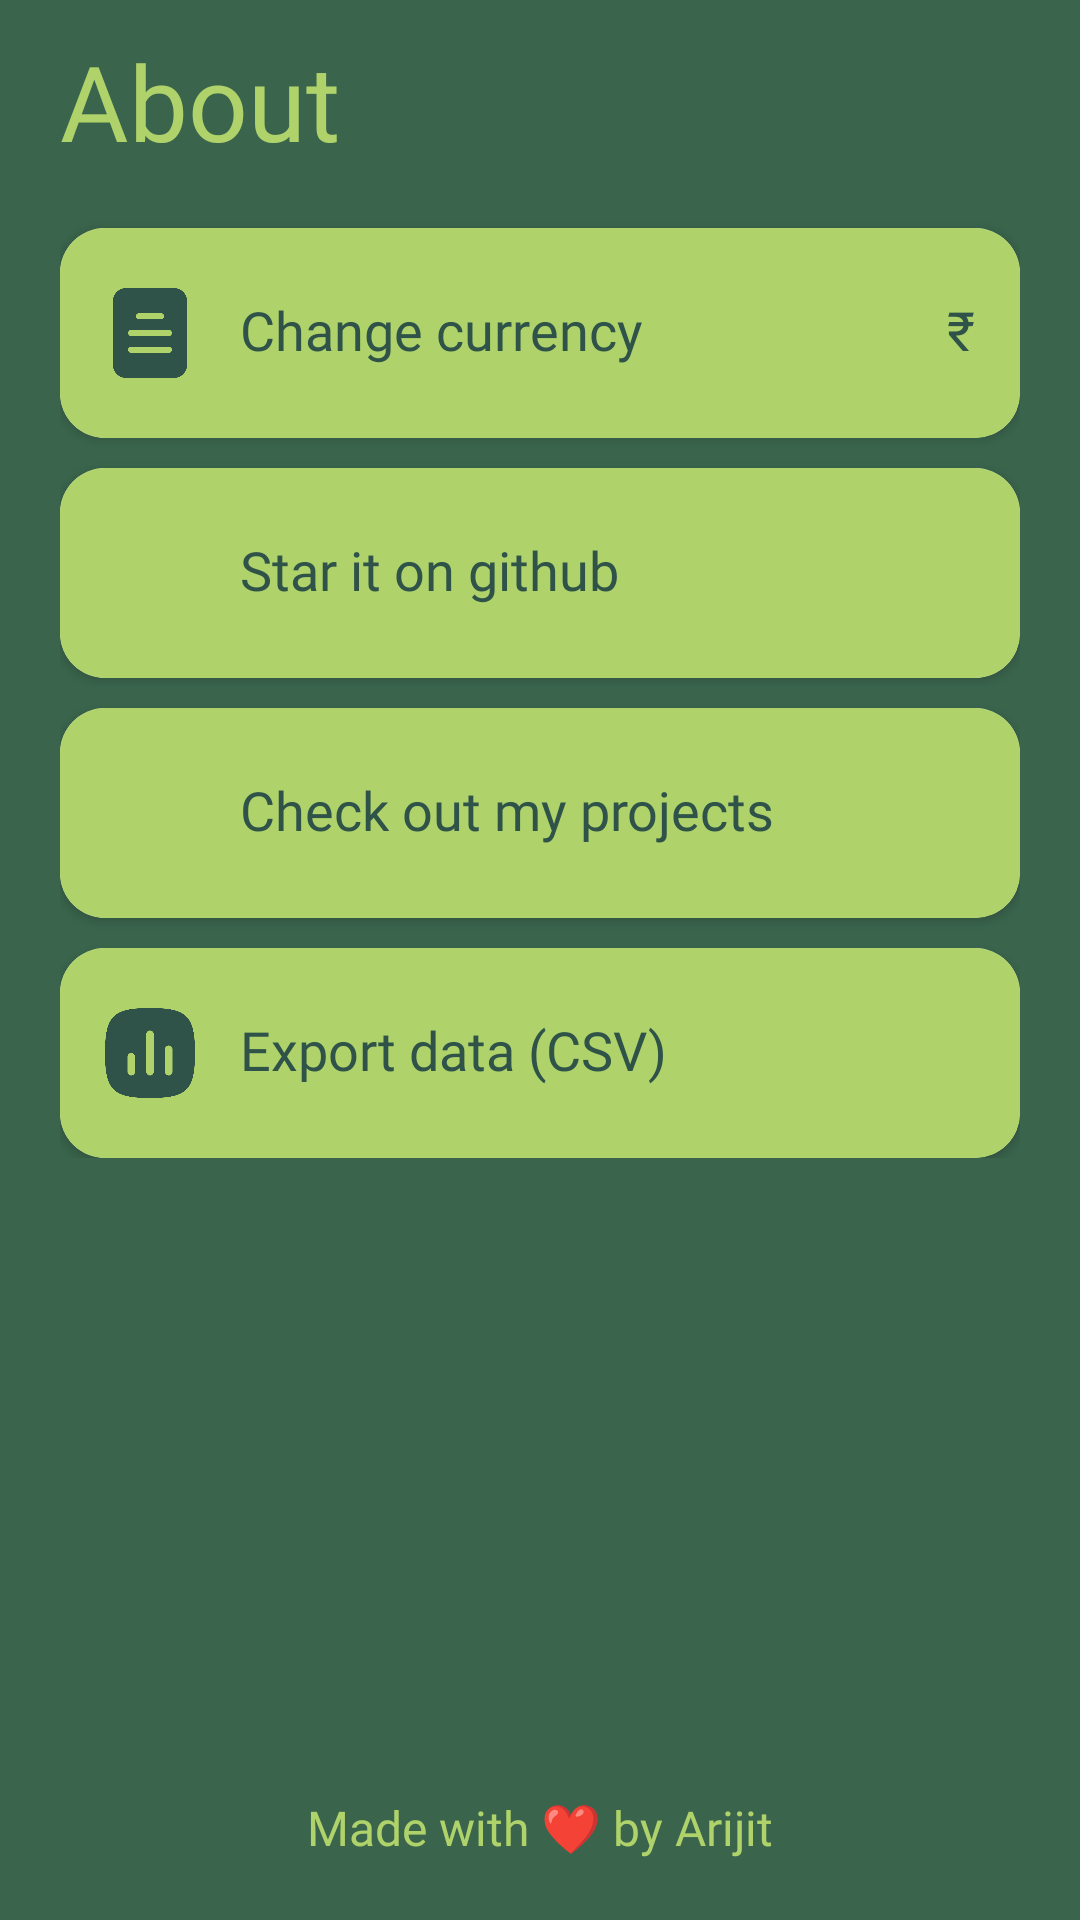

Locate icon controls on the screen. Image size 1080 × 1920, boxes as (x1, y1, x2, y2).
note: (113, 288, 187, 378)
stats: (105, 1008, 195, 1098)
